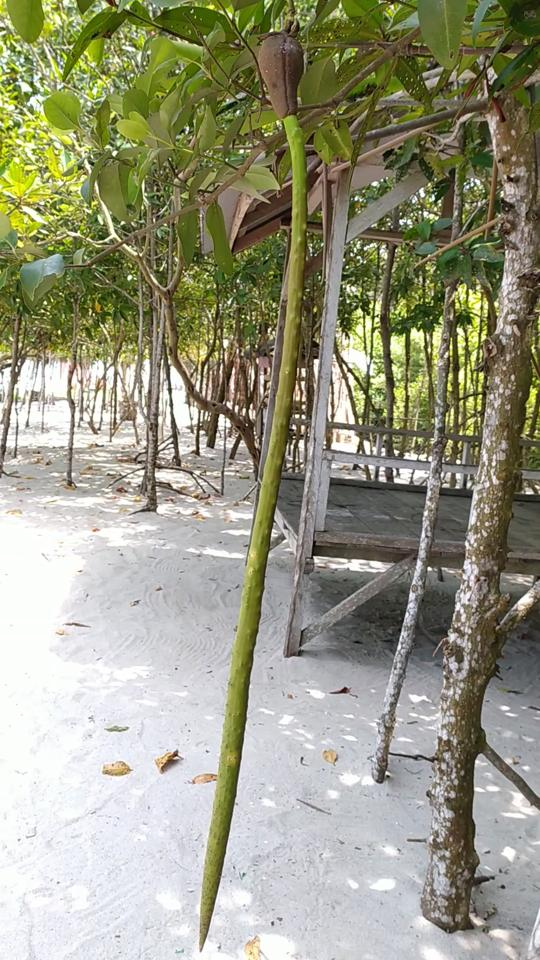mentah: (171, 18, 335, 953)
